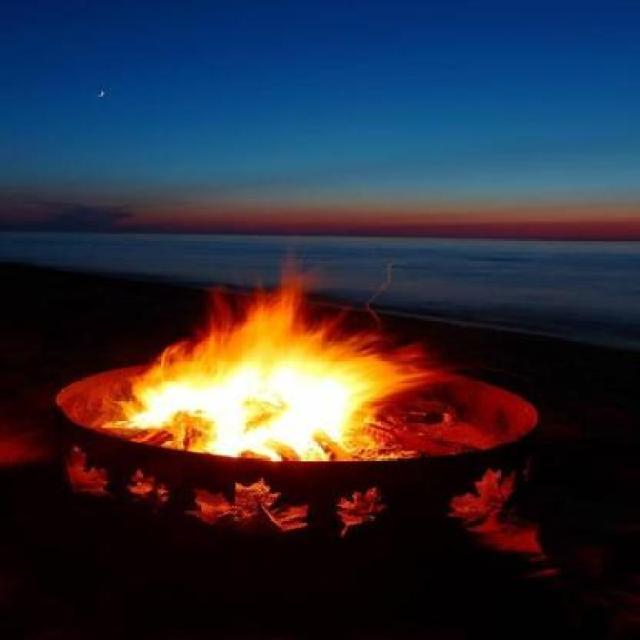Fire: (121, 262, 376, 460)
